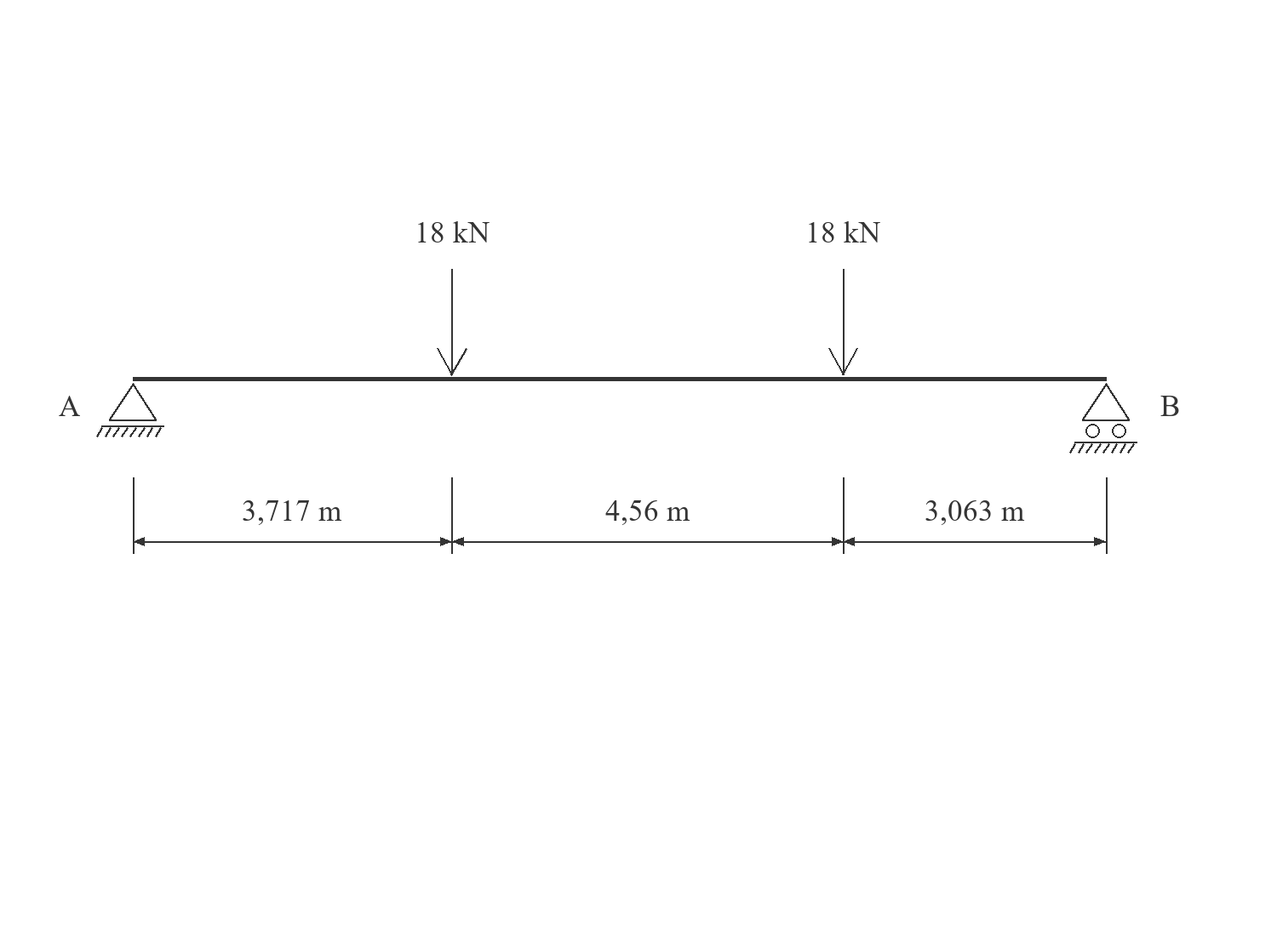pin_support: (96, 383, 164, 437)
point_load: (437, 269, 467, 376), (828, 269, 858, 375)
roller_support: (1069, 383, 1137, 454)
